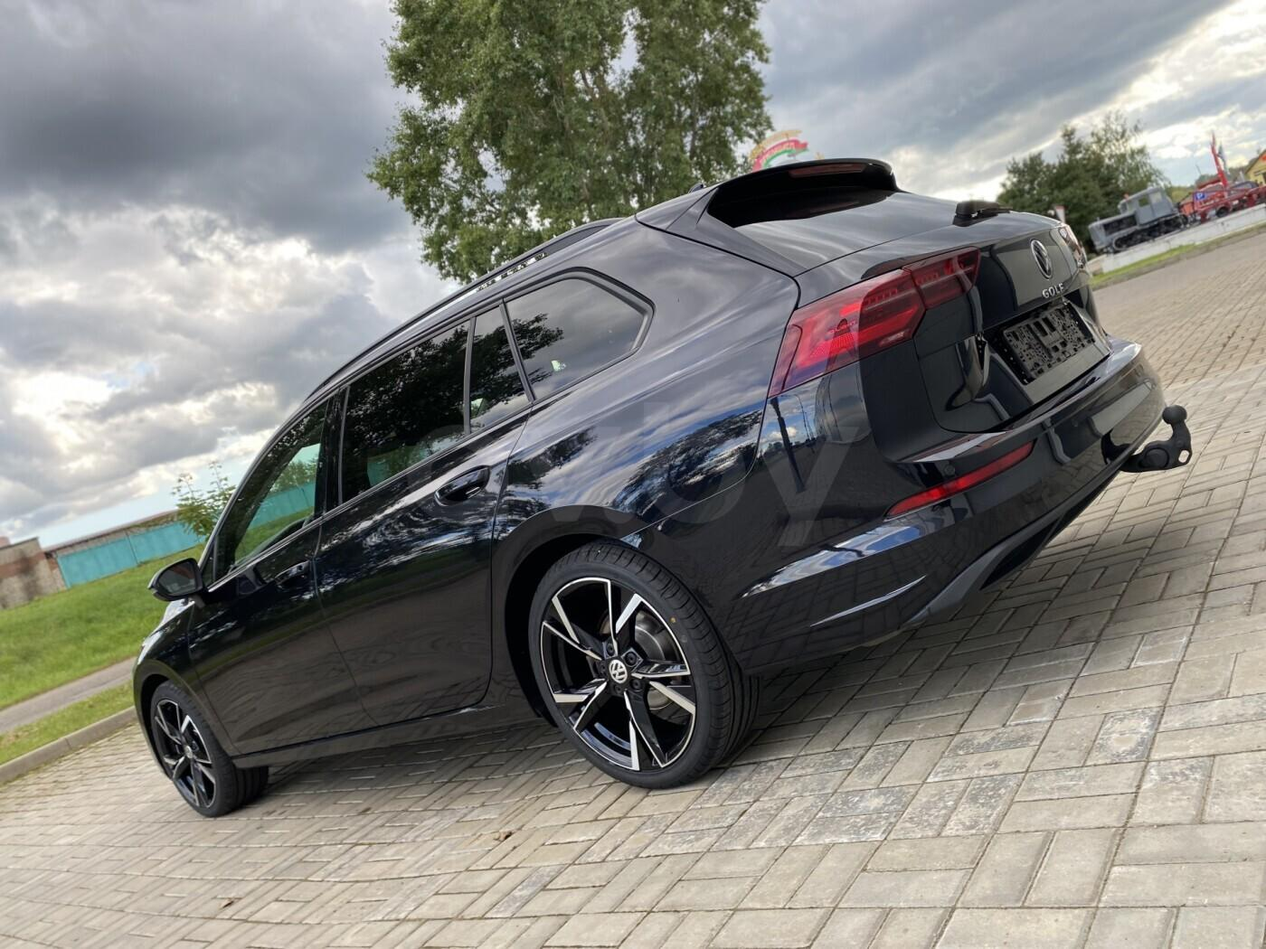Golf_2019: (128, 150, 1169, 815)
